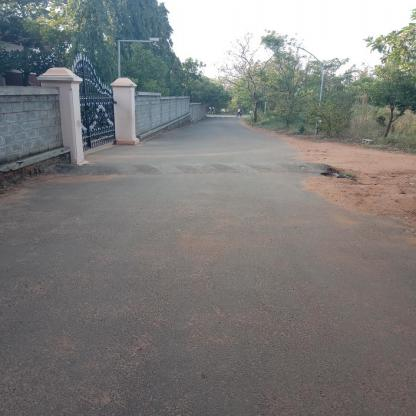speed-bumps: (42, 151, 341, 184)
